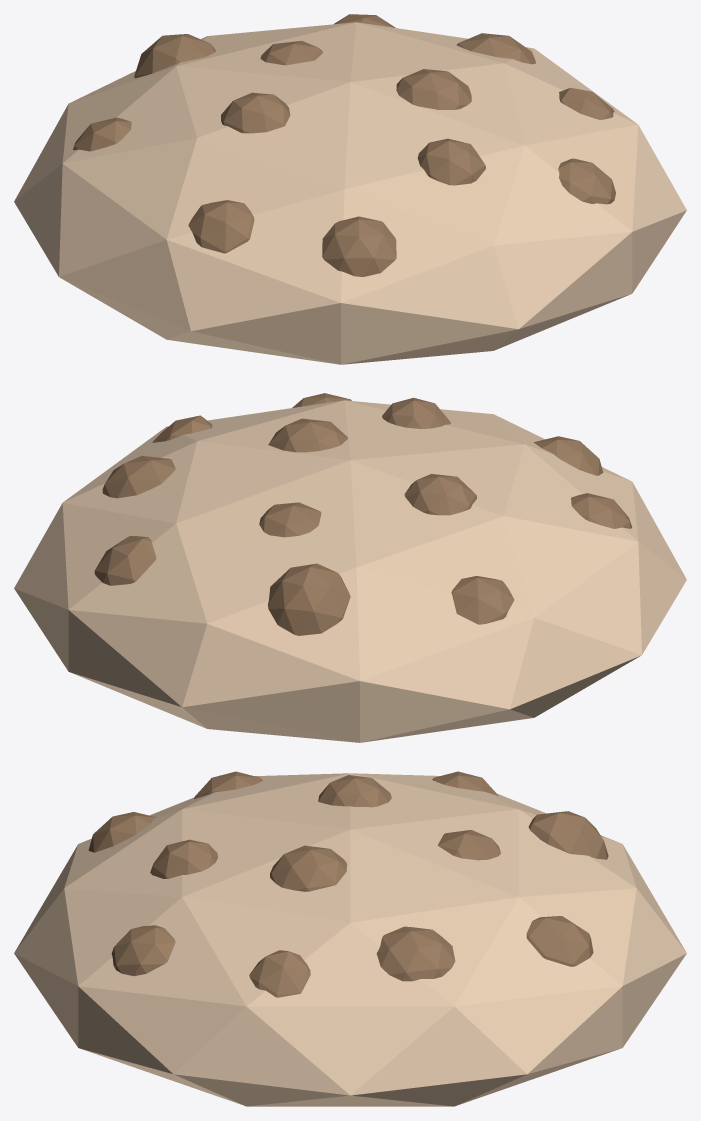
File: Cookie.gltf
3 views of the same model, one above another, from view 1: azimuth 30°, elevation 25°; view 2: azimuth 150°, elevation 25°; view 3: azimuth 270°, elevation 25° (orthographic).
Visible parts, largest first — view 1: Cookie; view 2: Cookie; view 3: Cookie.
Boxes of the visible parts, box(x1,y1,x2,y2) form: Cookie: box(14, 14, 686, 364); Cookie: box(14, 393, 686, 742); Cookie: box(14, 771, 686, 1106).
Size of the model in its own units: 1.5 by 0.5143 by 1.5.
